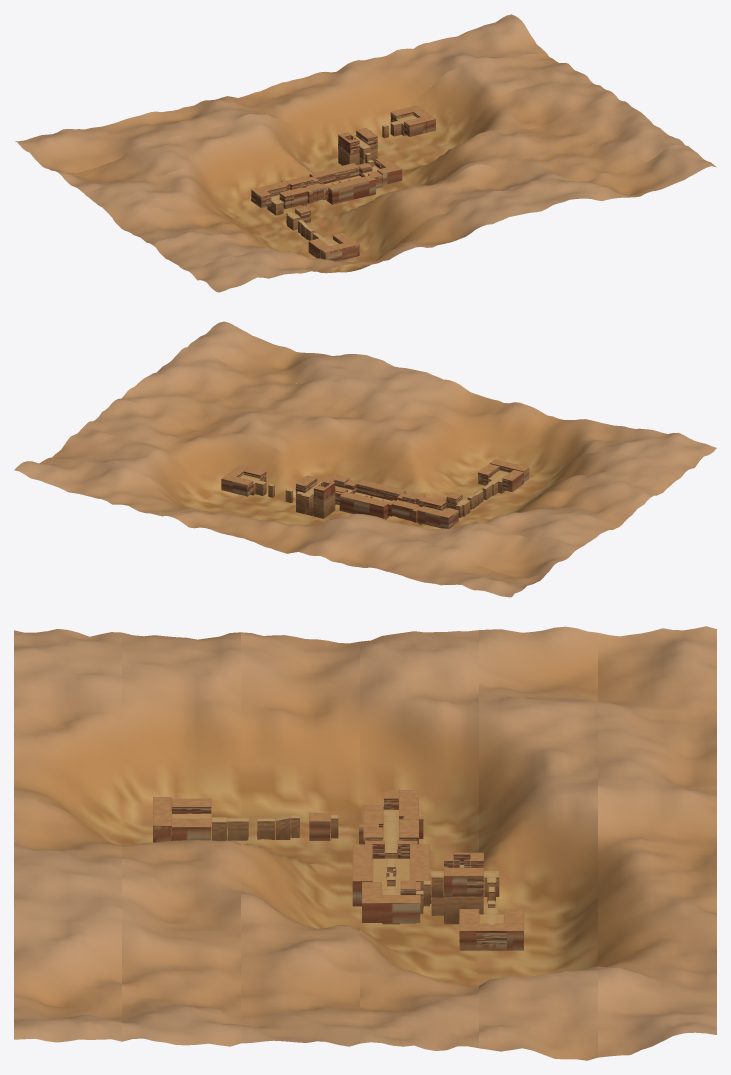
Rendered from sandstorm_pass_terrain.glb.
The picture shows the model from 3 angles, top to bottom: view 1: azimuth 30°, elevation 25°; view 2: azimuth 150°, elevation 25°; view 3: azimuth 270°, elevation 25°; orthographic projection. The views are drawn at different scales.
Visible parts, largest first — view 1: backdrop_4, backdrop_5, backdrop_1, backdrop_3, backdrop_2, backdrop_0, terrain_E, terrain_D, terrain_G, terrain_A, terrain_I, terrain_F (+1 smaller); view 2: backdrop_0, backdrop_1, backdrop_2, backdrop_5, backdrop_3, backdrop_4, terrain_E, terrain_D, terrain_G, terrain_A, terrain_I, terrain_B (+1 smaller); view 3: backdrop_5, backdrop_4, backdrop_2, backdrop_1, backdrop_0, backdrop_3, terrain_E, terrain_D, terrain_G, terrain_F, terrain_I, terrain_A (+1 smaller).
Part boxes in pixels (x1,y1,x2,y2): backdrop_4: [49, 53, 580, 192]; backdrop_5: [15, 14, 545, 172]; backdrop_1: [153, 121, 684, 273]; backdrop_3: [84, 73, 615, 227]; backdrop_2: [118, 95, 649, 251]; backdrop_0: [188, 144, 716, 292]; terrain_E: [309, 163, 382, 204]; terrain_D: [251, 175, 324, 212]; terrain_G: [338, 128, 377, 165]; terrain_A: [308, 232, 359, 261]; terrain_I: [390, 105, 435, 136]; terrain_F: [358, 144, 402, 185]; backdrop_0: [188, 321, 716, 474]; backdrop_1: [154, 346, 684, 506]; backdrop_2: [119, 373, 650, 528]; backdrop_5: [14, 458, 545, 597]; backdrop_3: [84, 399, 615, 546]; backdrop_4: [50, 427, 580, 577]; terrain_E: [335, 479, 406, 519]; terrain_D: [391, 492, 458, 528]; terrain_G: [295, 475, 335, 518]; terrain_A: [478, 459, 529, 493]; terrain_I: [221, 465, 266, 496]; terrain_B: [446, 480, 497, 516]; backdrop_5: [598, 626, 716, 1057]; backdrop_4: [479, 626, 597, 1060]; backdrop_2: [241, 632, 359, 1046]; backdrop_1: [122, 632, 240, 1046]; backdrop_0: [14, 629, 121, 1042]; backdrop_3: [360, 630, 478, 1050]; terrain_E: [352, 840, 429, 906]; terrain_D: [359, 790, 423, 858]; terrain_G: [431, 852, 483, 924]; terrain_F: [362, 871, 443, 924]; terrain_I: [459, 909, 524, 950]; terrain_A: [153, 797, 211, 842].
Size of the model in its own units: 637 by 63.12 by 455.
